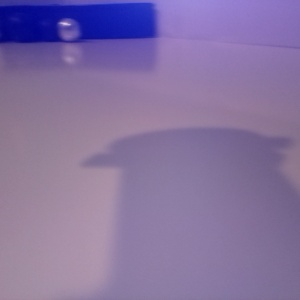alive_ball: (208, 12, 264, 66)
dead_ball: (1, 7, 43, 63), (248, 14, 280, 49)
